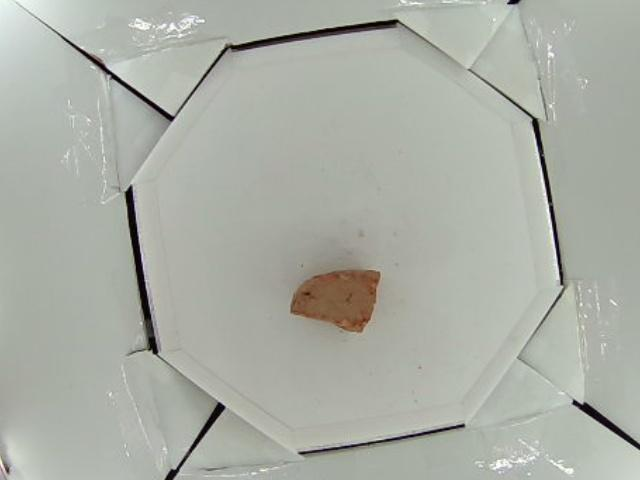Brisk: (289, 269, 380, 333)
